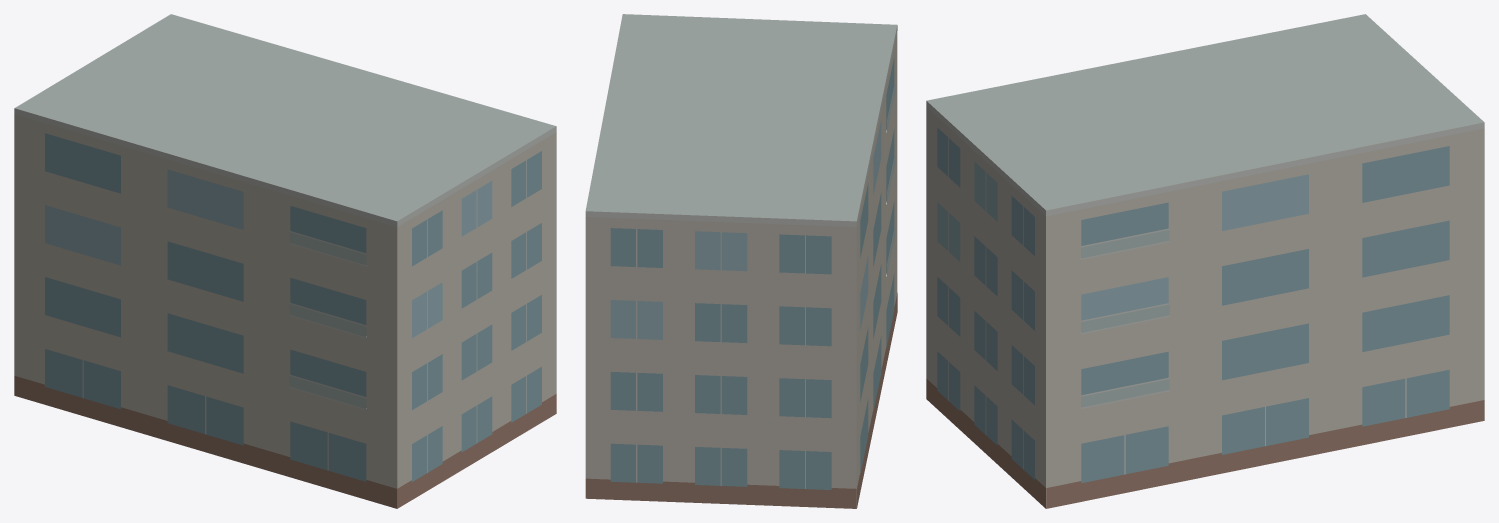
The model's file is survey-upis-32629322.glb.
The picture shows the model from 3 angles, left to right: view 1: azimuth 30°, elevation 25°; view 2: azimuth 150°, elevation 25°; view 3: azimuth 270°, elevation 25°; orthographic projection. The views are drawn at different scales.
Visible parts, largest first — view 1: survey-upis-32629322.tmp; view 2: survey-upis-32629322.tmp; view 3: survey-upis-32629322.tmp.
Boxes of the visible parts, x1,y1,x2,y2 form: survey-upis-32629322.tmp: (14, 14, 556, 508); survey-upis-32629322.tmp: (585, 14, 897, 508); survey-upis-32629322.tmp: (926, 14, 1484, 508).
Size of the model in its own units: 17.24 by 12.2 by 20.7.
